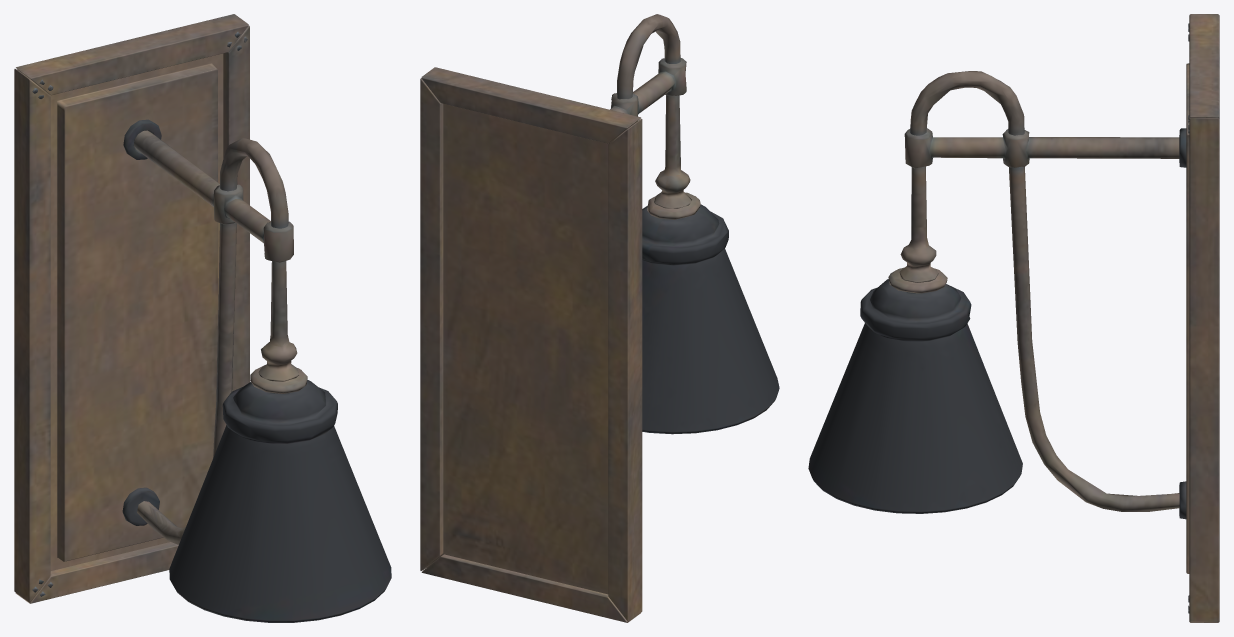
Rendered from industrial_wall_sconce.glb.
3 views of the same model, side by side, from view 1: azimuth 30°, elevation 25°; view 2: azimuth 150°, elevation 25°; view 3: azimuth 270°, elevation 25° (orthographic). The views are drawn at different scales.
Parts seen in each view (by area): view 1: industrial_wall_sconce; view 2: industrial_wall_sconce; view 3: industrial_wall_sconce.
Boxes of the visible parts, bbox=[...] form: industrial_wall_sconce: bbox=[14, 14, 391, 622]; industrial_wall_sconce: bbox=[420, 14, 779, 622]; industrial_wall_sconce: bbox=[808, 14, 1219, 622].
Bounding box in the file's own units: 0.1503 × 0.3418 × 0.2516.
2 materials, 1 textured.
